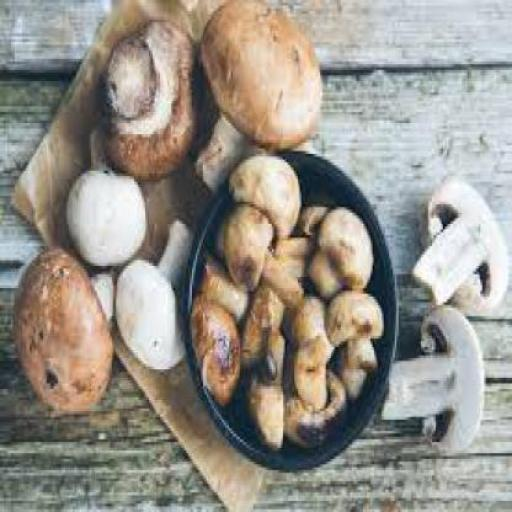biodegradable: (192, 0, 322, 193), (11, 246, 117, 411), (98, 17, 204, 179), (380, 299, 484, 451), (414, 173, 504, 311), (114, 216, 194, 370), (63, 126, 147, 264), (222, 204, 302, 299), (227, 151, 302, 238), (306, 201, 370, 294), (242, 330, 287, 448), (188, 288, 238, 391), (324, 282, 380, 372), (283, 366, 345, 443), (238, 280, 278, 377), (288, 294, 330, 364), (198, 246, 244, 308), (294, 335, 334, 403), (326, 347, 368, 403), (270, 232, 315, 258)
